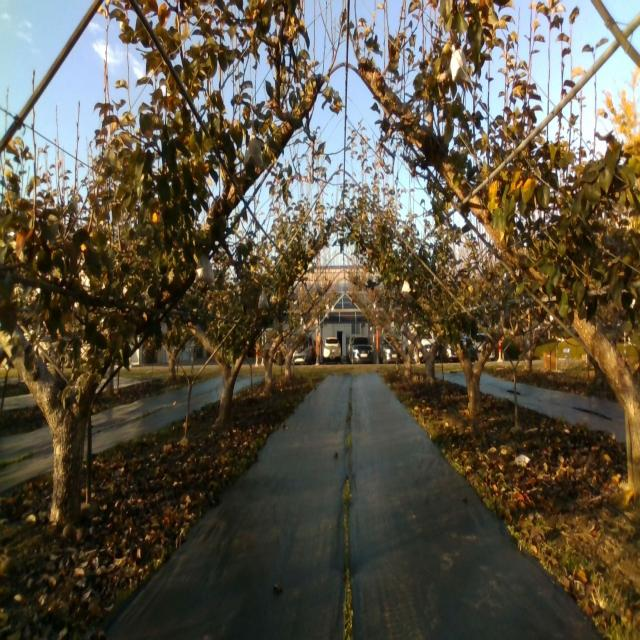pearbags: (243, 135, 265, 168), (450, 44, 468, 83), (195, 255, 215, 283), (258, 288, 269, 310)
